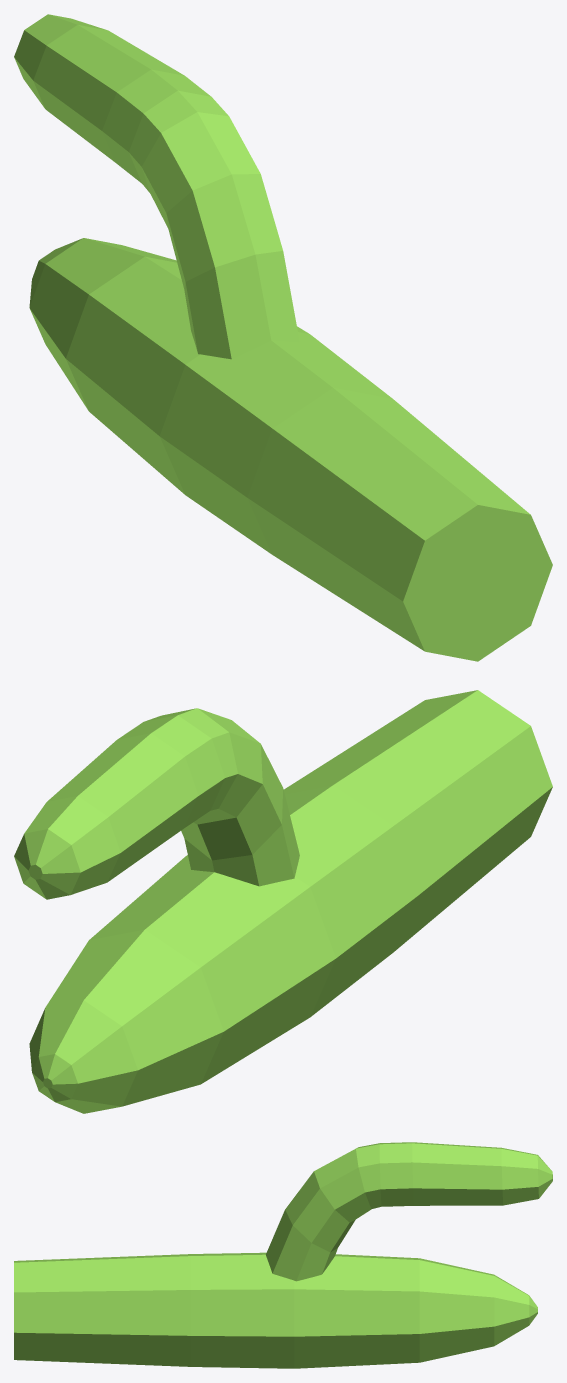
3 renders of one model, top to bottom at view 1: azimuth 30°, elevation 25°; view 2: azimuth 150°, elevation 25°; view 3: azimuth 270°, elevation 25°, orthographic. The views are drawn at different scales.
Parts seen in each view (by area): view 1: Cylinder; view 2: Cylinder; view 3: Cylinder.
Boxes of the visible parts, bbox=[...] form: Cylinder: bbox=[14, 14, 552, 661]; Cylinder: bbox=[14, 690, 552, 1113]; Cylinder: bbox=[14, 1142, 552, 1368].
Bounding box in the file's own units: 139 × 276 × 604.
